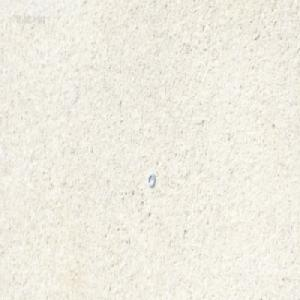Washer: (147, 172, 155, 187)
